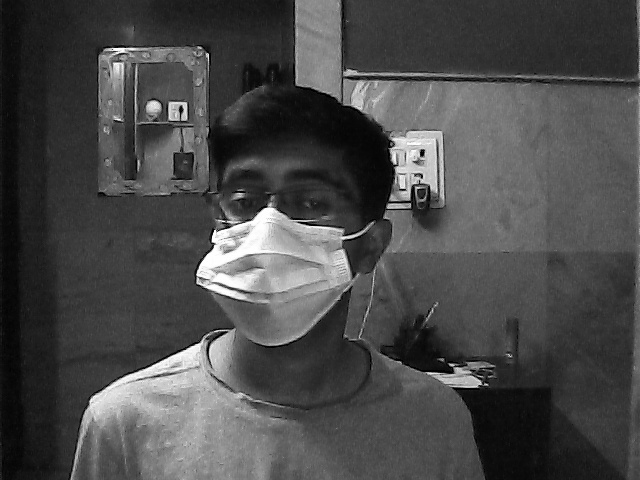mask: (203, 185, 359, 349)
